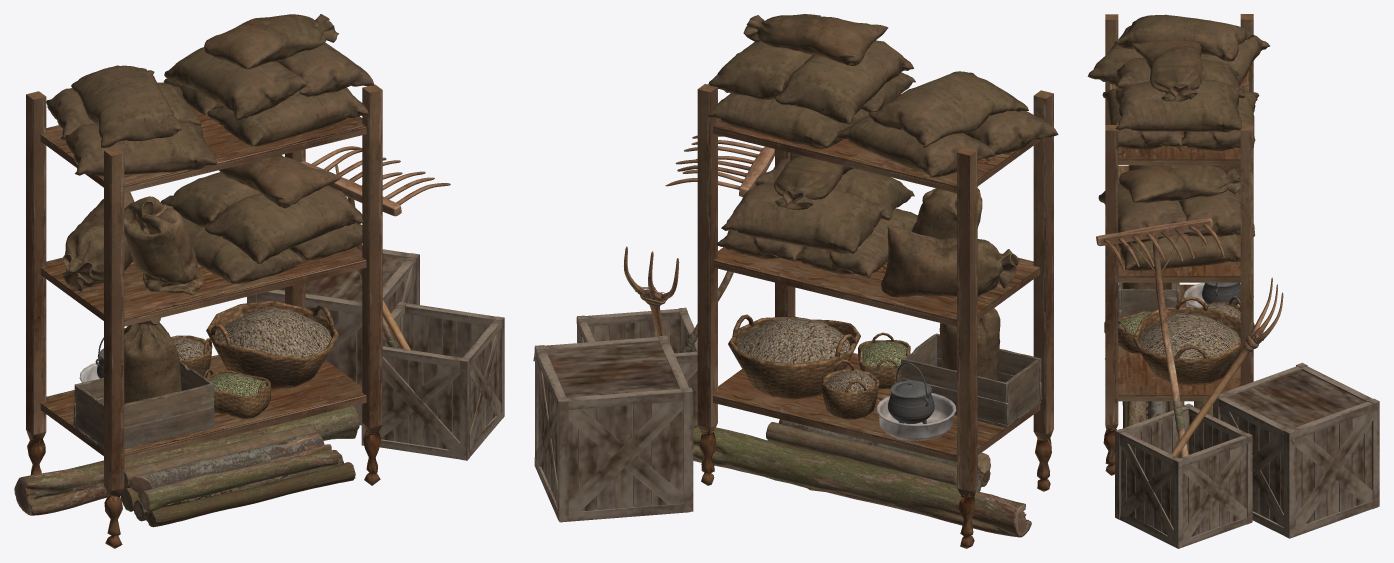
File: rack.gltf
The picture shows the model from 3 angles, left to right: view 1: azimuth 30°, elevation 25°; view 2: azimuth 150°, elevation 25°; view 3: azimuth 270°, elevation 25°; orthographic projection. The views are drawn at different scales.
Visible parts, largest first — view 1: SM_Shelf_Wood_01a_415_StaticMeshComponent0.001, SM_Dry_Goods_04e_2_StaticMeshComponent0.001, SM_Dry_Goods_04e_2_StaticMeshComponent0.002, SM_WoodCrate_02b_430_StaticMeshComponent0.001, SM_Lumber_01a.001, SM_Dry_Goods_04g_8_StaticMeshComponent0.001, SM_WeaverBasket_Spice_02c_384_StaticMeshComponent0.001, SM_WoodCrate_02a_433_StaticMeshComponent0.001, SM_Crate_03a.001, SM_Lumber_01b.001, SM_Dry_Goods_03c_14_StaticMeshComponent0.001, SM_Dry_Goods_04b_18_StaticMeshComponent0.001 (+4 smaller); view 2: SM_Shelf_Wood_01a_415_StaticMeshComponent0.001, SM_WoodCrate_02a_433_StaticMeshComponent0.001, SM_Dry_Goods_04e_2_StaticMeshComponent0.001, SM_Dry_Goods_04e_2_StaticMeshComponent0.002, SM_Dry_Goods_04g_8_StaticMeshComponent0.001, SM_Lumber_01b.001, SM_WeaverBasket_Spice_02c_384_StaticMeshComponent0.001, SM_Dry_Goods_04c_21_StaticMeshComponent0.001, SM_Crate_03a.001, SM_Lumber_01a.001, SM_WoodCrate_02b_430_StaticMeshComponent0.001, StaticMeshActor_196_StaticMeshComponent0.001 (+7 smaller); view 3: SM_WoodCrate_02a_433_StaticMeshComponent0.001, SM_Shelf_Wood_01a_415_StaticMeshComponent0.001, SM_WoodCrate_02b_430_StaticMeshComponent0.001, SM_Dry_Goods_04e_2_StaticMeshComponent0.001, SM_Dry_Goods_04e_2_StaticMeshComponent0.002, SM_WeaverBasket_Spice_02c_384_StaticMeshComponent0.001, SM_Dry_Goods_04g_8_StaticMeshComponent0.001, StaticMeshActor_196_StaticMeshComponent0.001, StaticMeshActor_198_StaticMeshComponent0.001, SM_Crate_03a.001, SM_Lumber_01a.001, SM_Cookware_01b.001 (+3 smaller).
Part boxes in pixels (x1,y1,x2,y2): SM_Shelf_Wood_01a_415_StaticMeshComponent0.001: [26, 84, 382, 548]; SM_Dry_Goods_04e_2_StaticMeshComponent0.001: [163, 14, 374, 146]; SM_Dry_Goods_04e_2_StaticMeshComponent0.002: [160, 155, 362, 283]; SM_WoodCrate_02b_430_StaticMeshComponent0.001: [361, 302, 504, 460]; SM_Lumber_01a.001: [120, 424, 355, 527]; SM_Dry_Goods_04g_8_StaticMeshComponent0.001: [46, 65, 216, 176]; SM_WeaverBasket_Spice_02c_384_StaticMeshComponent0.001: [206, 300, 338, 389]; SM_WoodCrate_02a_433_StaticMeshComponent0.001: [247, 249, 419, 425]; SM_Crate_03a.001: [73, 360, 214, 449]; SM_Lumber_01b.001: [14, 406, 359, 515]; SM_Dry_Goods_03c_14_StaticMeshComponent0.001: [124, 196, 204, 295]; SM_Dry_Goods_04b_18_StaticMeshComponent0.001: [124, 318, 181, 403]; SM_Shelf_Wood_01a_415_StaticMeshComponent0.001: [697, 84, 1053, 548]; SM_WoodCrate_02a_433_StaticMeshComponent0.001: [533, 335, 693, 522]; SM_Dry_Goods_04e_2_StaticMeshComponent0.001: [708, 14, 915, 148]; SM_Dry_Goods_04e_2_StaticMeshComponent0.002: [716, 153, 917, 277]; SM_Dry_Goods_04g_8_StaticMeshComponent0.001: [837, 71, 1058, 177]; SM_Lumber_01b.001: [693, 425, 1031, 537]; SM_WeaverBasket_Spice_02c_384_StaticMeshComponent0.001: [728, 314, 860, 399]; SM_Dry_Goods_04c_21_StaticMeshComponent0.001: [881, 225, 1019, 297]; SM_Crate_03a.001: [901, 333, 1041, 427]; SM_Lumber_01a.001: [766, 420, 990, 491]; SM_WoodCrate_02b_430_StaticMeshComponent0.001: [576, 307, 697, 427]; StaticMeshActor_196_StaticMeshComponent0.001: [665, 135, 774, 352]; SM_WoodCrate_02a_433_StaticMeshComponent0.001: [1213, 362, 1379, 538]; SM_Shelf_Wood_01a_415_StaticMeshComponent0.001: [1103, 14, 1254, 475]; SM_WoodCrate_02b_430_StaticMeshComponent0.001: [1115, 403, 1252, 548]; SM_Dry_Goods_04e_2_StaticMeshComponent0.001: [1102, 40, 1259, 151]; SM_Dry_Goods_04e_2_StaticMeshComponent0.002: [1098, 165, 1254, 271]; SM_WeaverBasket_Spice_02c_384_StaticMeshComponent0.001: [1132, 296, 1240, 385]; SM_Dry_Goods_04g_8_StaticMeshComponent0.001: [1087, 14, 1269, 85]; StaticMeshActor_196_StaticMeshComponent0.001: [1096, 217, 1224, 457]; StaticMeshActor_198_StaticMeshComponent0.001: [1171, 277, 1283, 456]; SM_Crate_03a.001: [1118, 282, 1179, 317]; SM_Lumber_01a.001: [1122, 401, 1184, 428]; SM_Cookware_01b.001: [1202, 282, 1240, 304].
Bounding box in the file's own units: 2.61 × 2.43 × 1.62.
21 materials, 21 textured.
